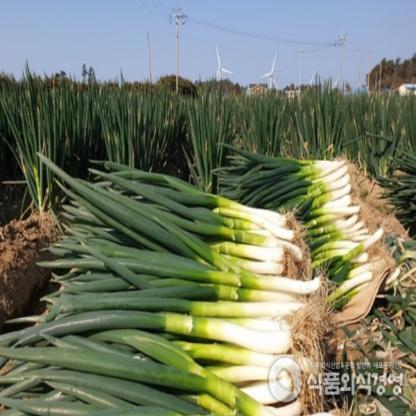green onion: (11, 262, 322, 348), (0, 344, 307, 415), (61, 179, 292, 273)
